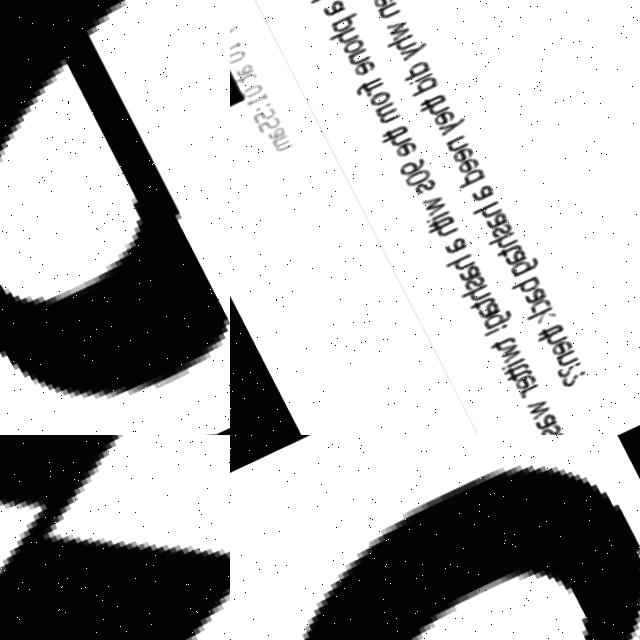1: (248, 116, 277, 136), (244, 106, 272, 126)
5: (389, 157, 420, 178)
D: (230, 435, 640, 640)
W: (0, 435, 230, 640)
